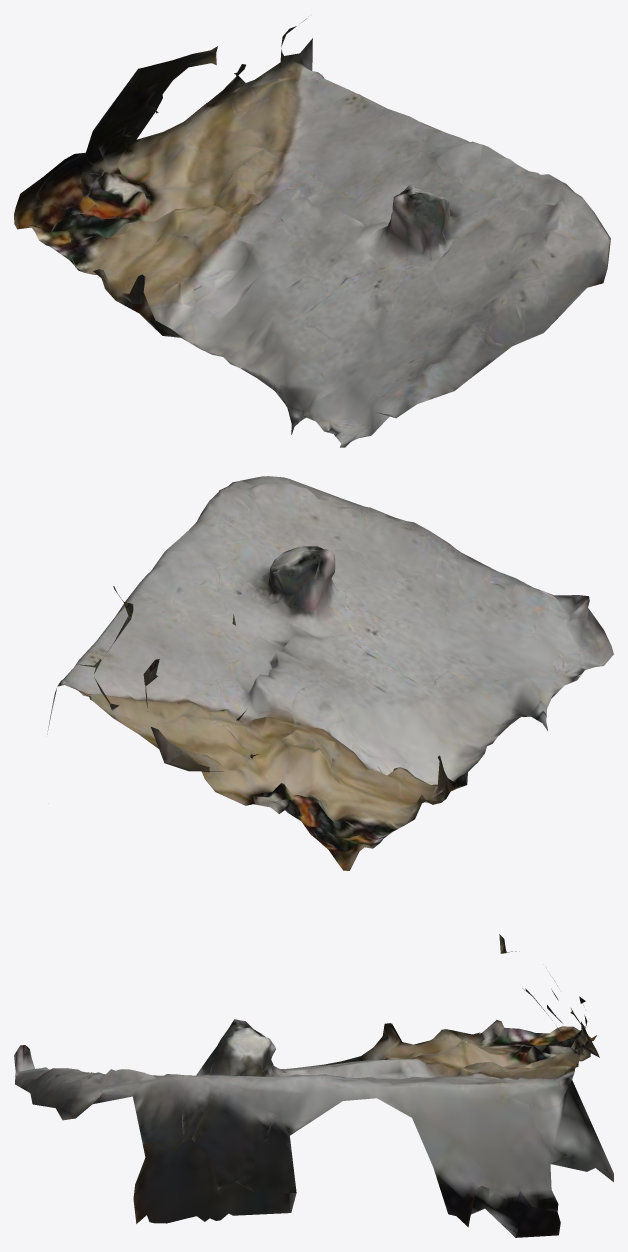
Rendered from hall.glb.
3 renders of one model, top to bottom at view 1: azimuth 30°, elevation 25°; view 2: azimuth 150°, elevation 25°; view 3: azimuth 270°, elevation 25°, orthographic. The views are drawn at different scales.
Size of the model in its own units: 0.7698 by 0.4588 by 1.13.
Materials: 1 (1 with a texture image).
